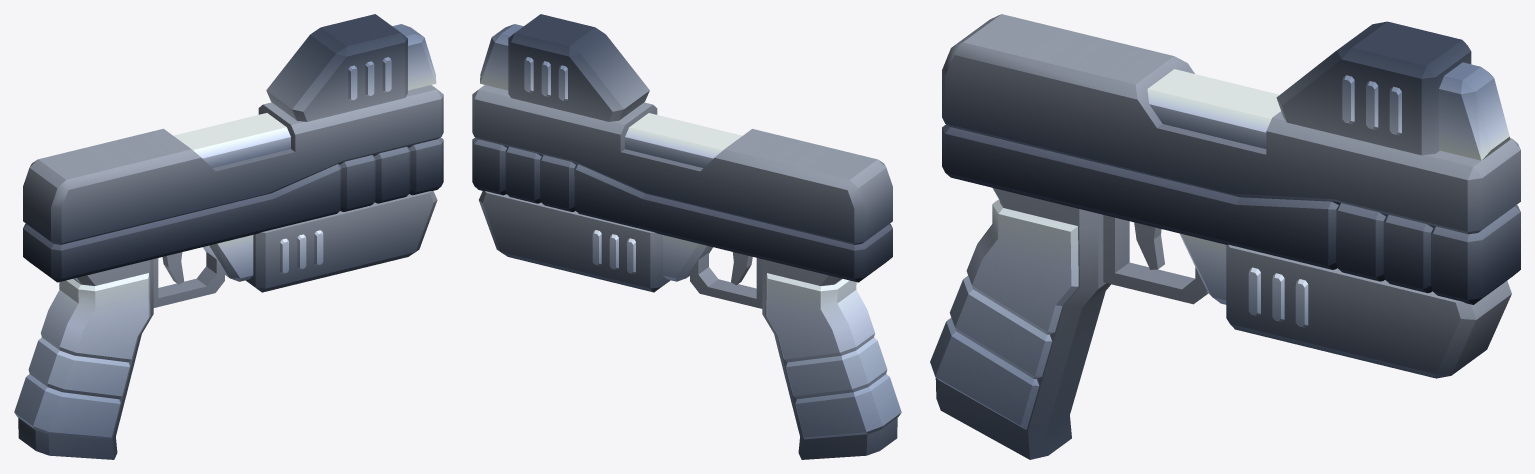
The model's file is Weapon2.FBX.
The picture shows the model from 3 angles, left to right: view 1: azimuth 30°, elevation 25°; view 2: azimuth 150°, elevation 25°; view 3: azimuth 330°, elevation 25°; orthographic projection. The views are drawn at different scales.
Visible parts, largest first — view 1: Box022; view 2: Box022; view 3: Box022.
Boxes of the visible parts, <box> form: Box022: <box>14,14,443,459</box>; Box022: <box>472,14,901,459</box>; Box022: <box>930,14,1520,459</box>.
Bounding box in the file's own units: 23.5 × 19.7 × 3.71.
